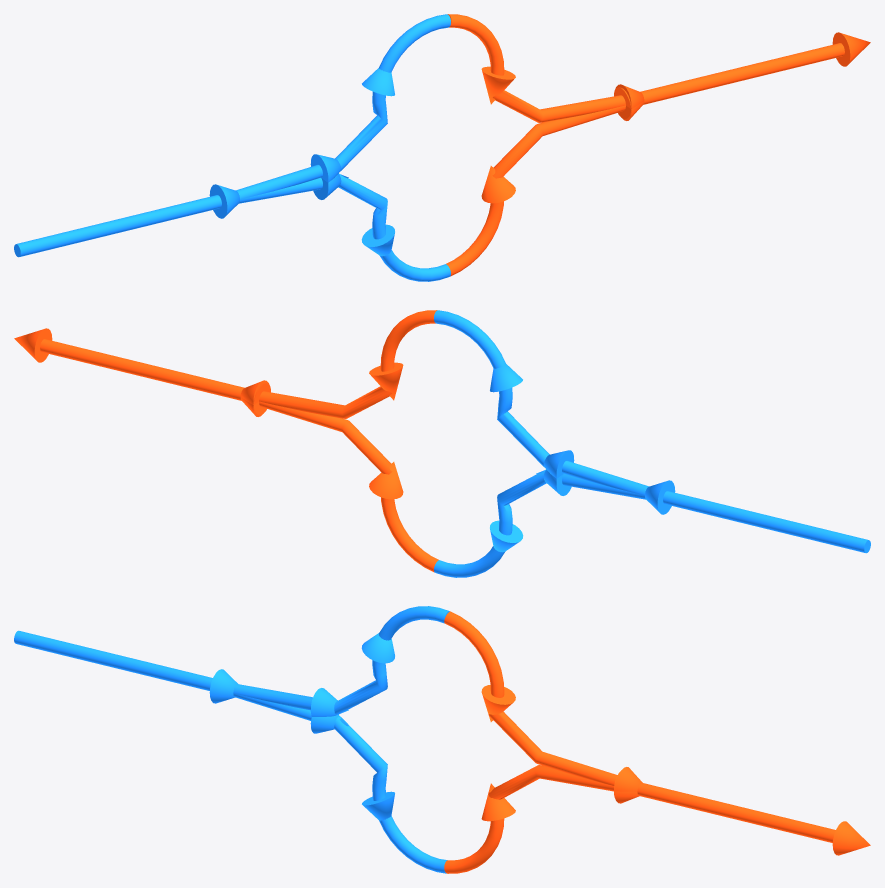
The model's file is external_gear_pump_flow.glb.
3 views of the same model, one above another, from view 1: azimuth 30°, elevation 25°; view 2: azimuth 150°, elevation 25°; view 3: azimuth 330°, elevation 25° (orthographic).
Visible parts, largest first — view 1: flow_suction_+1, flow_discharge_+1, flow_suction_-1, flow_discharge_-1; view 2: flow_suction_+1, flow_discharge_+1, flow_suction_-1, flow_discharge_-1; view 3: flow_discharge_+1, flow_suction_+1, flow_suction_-1, flow_discharge_-1.
Boxes of the visible parts, x1,y1,x2,y2 form: flow_suction_+1: (14, 14, 450, 257); flow_discharge_+1: (447, 14, 870, 122); flow_suction_-1: (17, 173, 450, 281); flow_discharge_-1: (446, 43, 844, 276); flow_suction_+1: (434, 310, 870, 553); flow_discharge_+1: (14, 310, 437, 418); flow_suction_-1: (434, 469, 867, 577); flow_discharge_-1: (40, 339, 438, 572); flow_discharge_+1: (444, 611, 870, 855); flow_suction_+1: (14, 606, 449, 716); flow_suction_-1: (14, 631, 447, 873); flow_discharge_-1: (444, 765, 834, 873).
Size of the model in its own units: 0.507 by 0.1495 by 0.0182.
